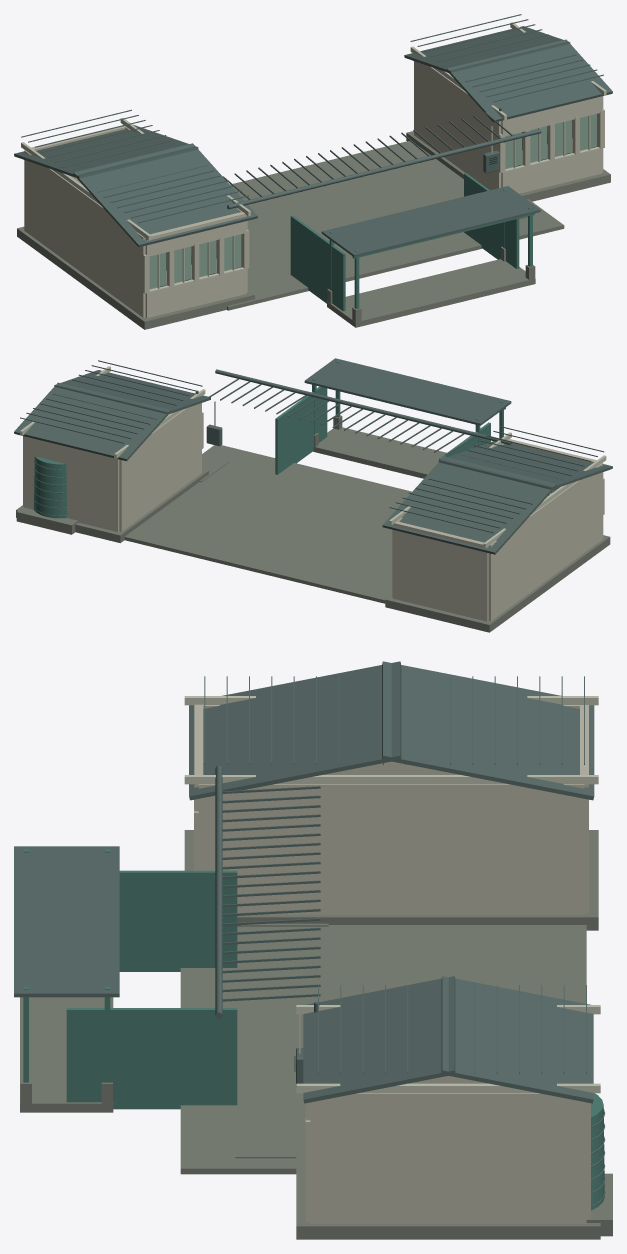
The model's file is clinic-1.glb.
3 renders of one model, top to bottom at view 1: azimuth 30°, elevation 25°; view 2: azimuth 150°, elevation 25°; view 3: azimuth 270°, elevation 25°, orthographic. The views are drawn at different scales.
Parts seen in each view (by area): view 1: Clinic_1; view 2: Clinic_1; view 3: Clinic_1.
Part boxes in pixels (x1,y1,x2,y2): Clinic_1: (14, 14, 612, 329); Clinic_1: (14, 358, 612, 632); Clinic_1: (14, 661, 612, 1239).
Bounding box in the file's own units: 23.5 × 4.85 × 14.75.
